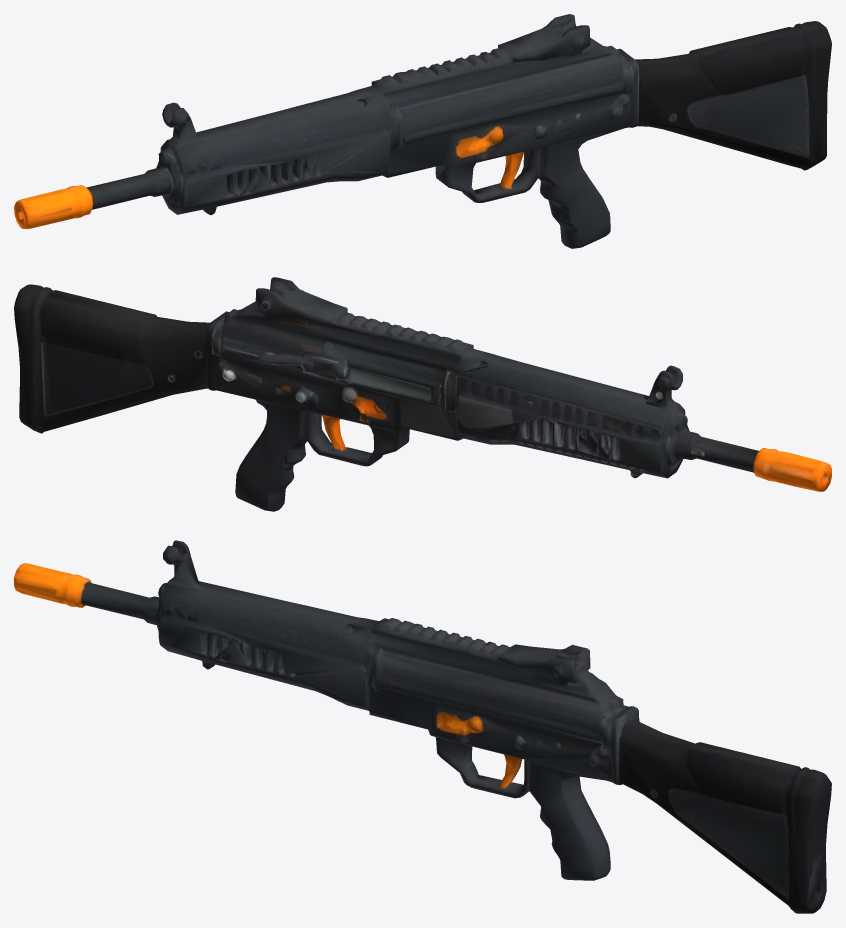
Rendered from wpn_smg.glb.
3 renders of one model, top to bottom at view 1: azimuth 30°, elevation 25°; view 2: azimuth 150°, elevation 25°; view 3: azimuth 330°, elevation 25°, orthographic.
Bounding box in the file's own units: 1.91 × 0.5357 × 0.1196.
Materials: 1 (1 with a texture image).
